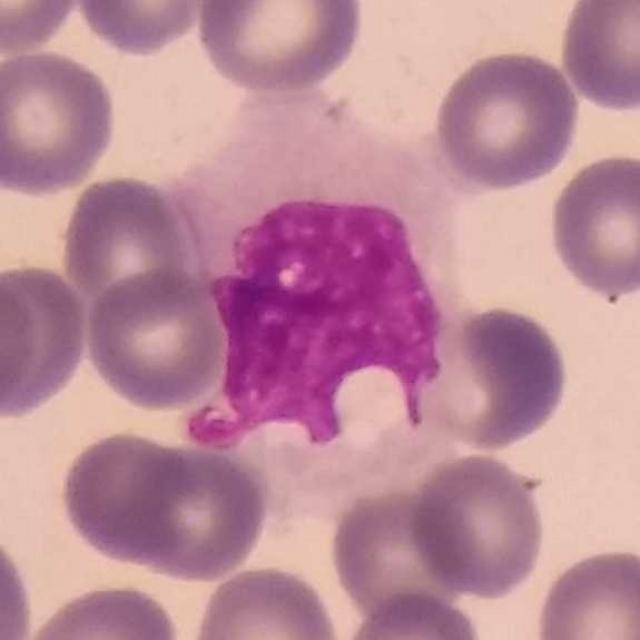mono: (175, 79, 480, 519)
